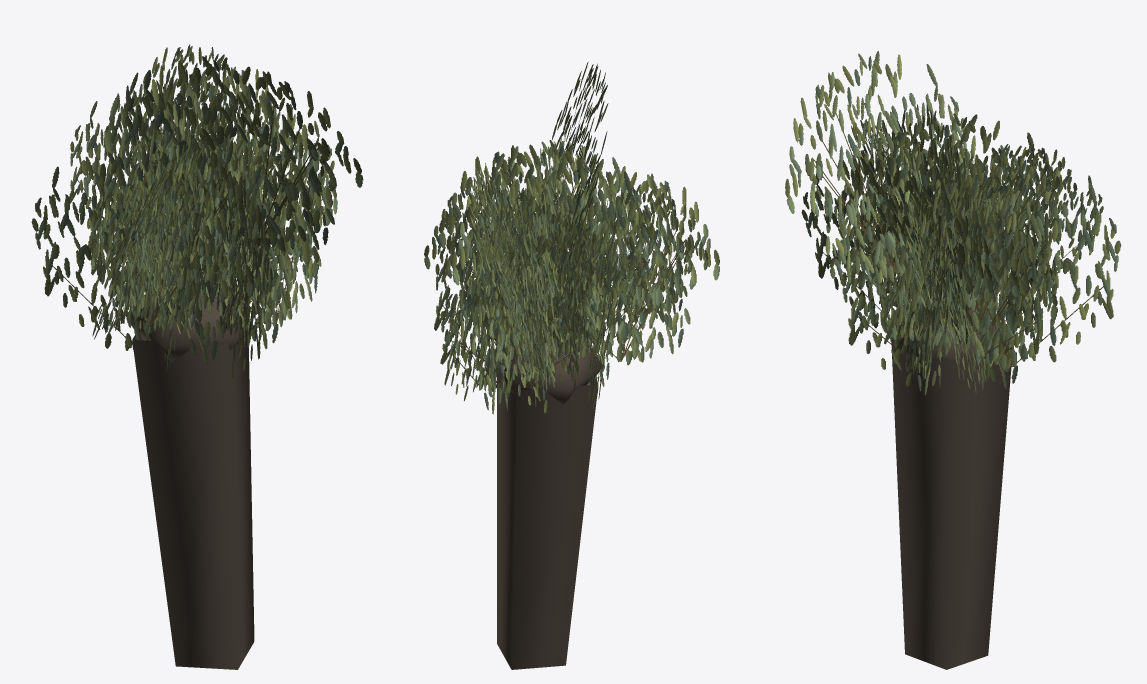
File: tpl_pollards_late_meadow_pollard_cut_lo.glb
3 views of the same model, side by side, from view 1: azimuth 30°, elevation 25°; view 2: azimuth 150°, elevation 25°; view 3: azimuth 270°, elevation 25° (orthographic). The views are drawn at different scales.
Parts seen in each view (by area): view 1: tpl_pollards_late_meadow_pollard_cut_lo; view 2: tpl_pollards_late_meadow_pollard_cut_lo; view 3: tpl_pollards_late_meadow_pollard_cut_lo.
Boxes of the visible parts, x1,y1,x2,y2 form: tpl_pollards_late_meadow_pollard_cut_lo: (31,44,363,669); tpl_pollards_late_meadow_pollard_cut_lo: (424,62,719,669); tpl_pollards_late_meadow_pollard_cut_lo: (785,51,1121,669).
Bounding box in the file's own units: 2.53 × 4.85 × 2.79.
Materials: 2 (1 with a texture image).
